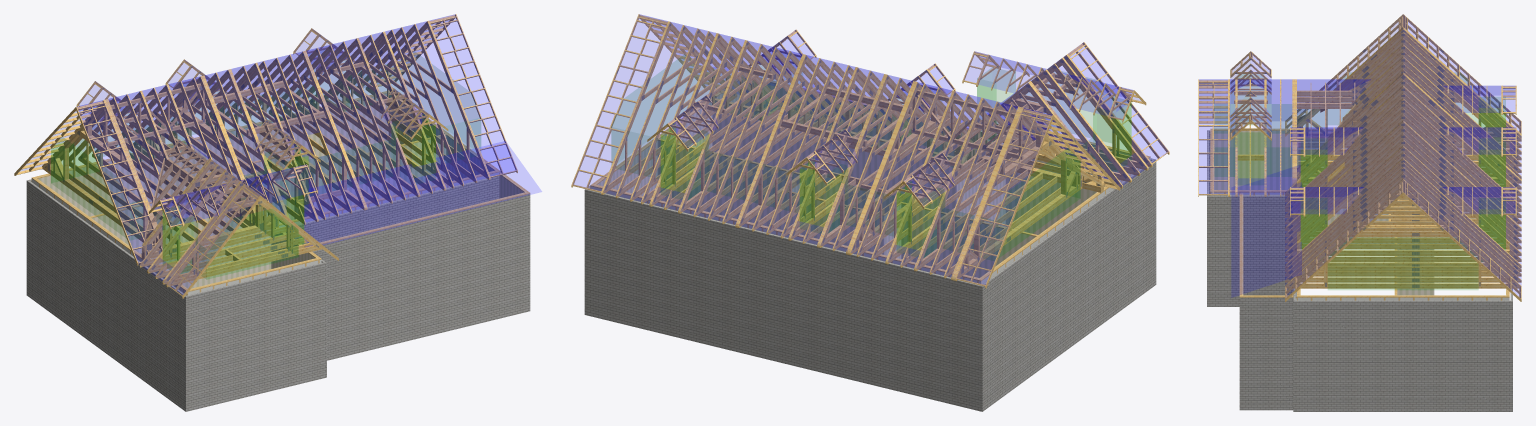
3 renders of one model, left to right at view 1: azimuth 30°, elevation 25°; view 2: azimuth 150°, elevation 25°; view 3: azimuth 270°, elevation 25°, orthographic. The views are drawn at different scales.
Parts seen in each view (by area): view 1: skfb_offset; view 2: skfb_offset; view 3: skfb_offset.
Part boxes in pixels (x1,y1,x2,y2): skfb_offset: [14, 14, 541, 411]; skfb_offset: [571, 14, 1169, 411]; skfb_offset: [1198, 14, 1521, 411].
Bounding box in the file's own units: 17324 × 10110 × 13272.
Materials: 12 (10 with a texture image).
